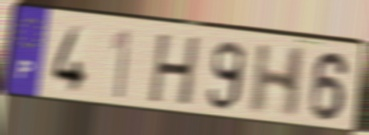1: (110, 27, 134, 103)
4: (50, 24, 88, 95)
6: (307, 50, 352, 123)
9: (205, 39, 247, 113)
H: (247, 43, 310, 120), (146, 32, 203, 110)
